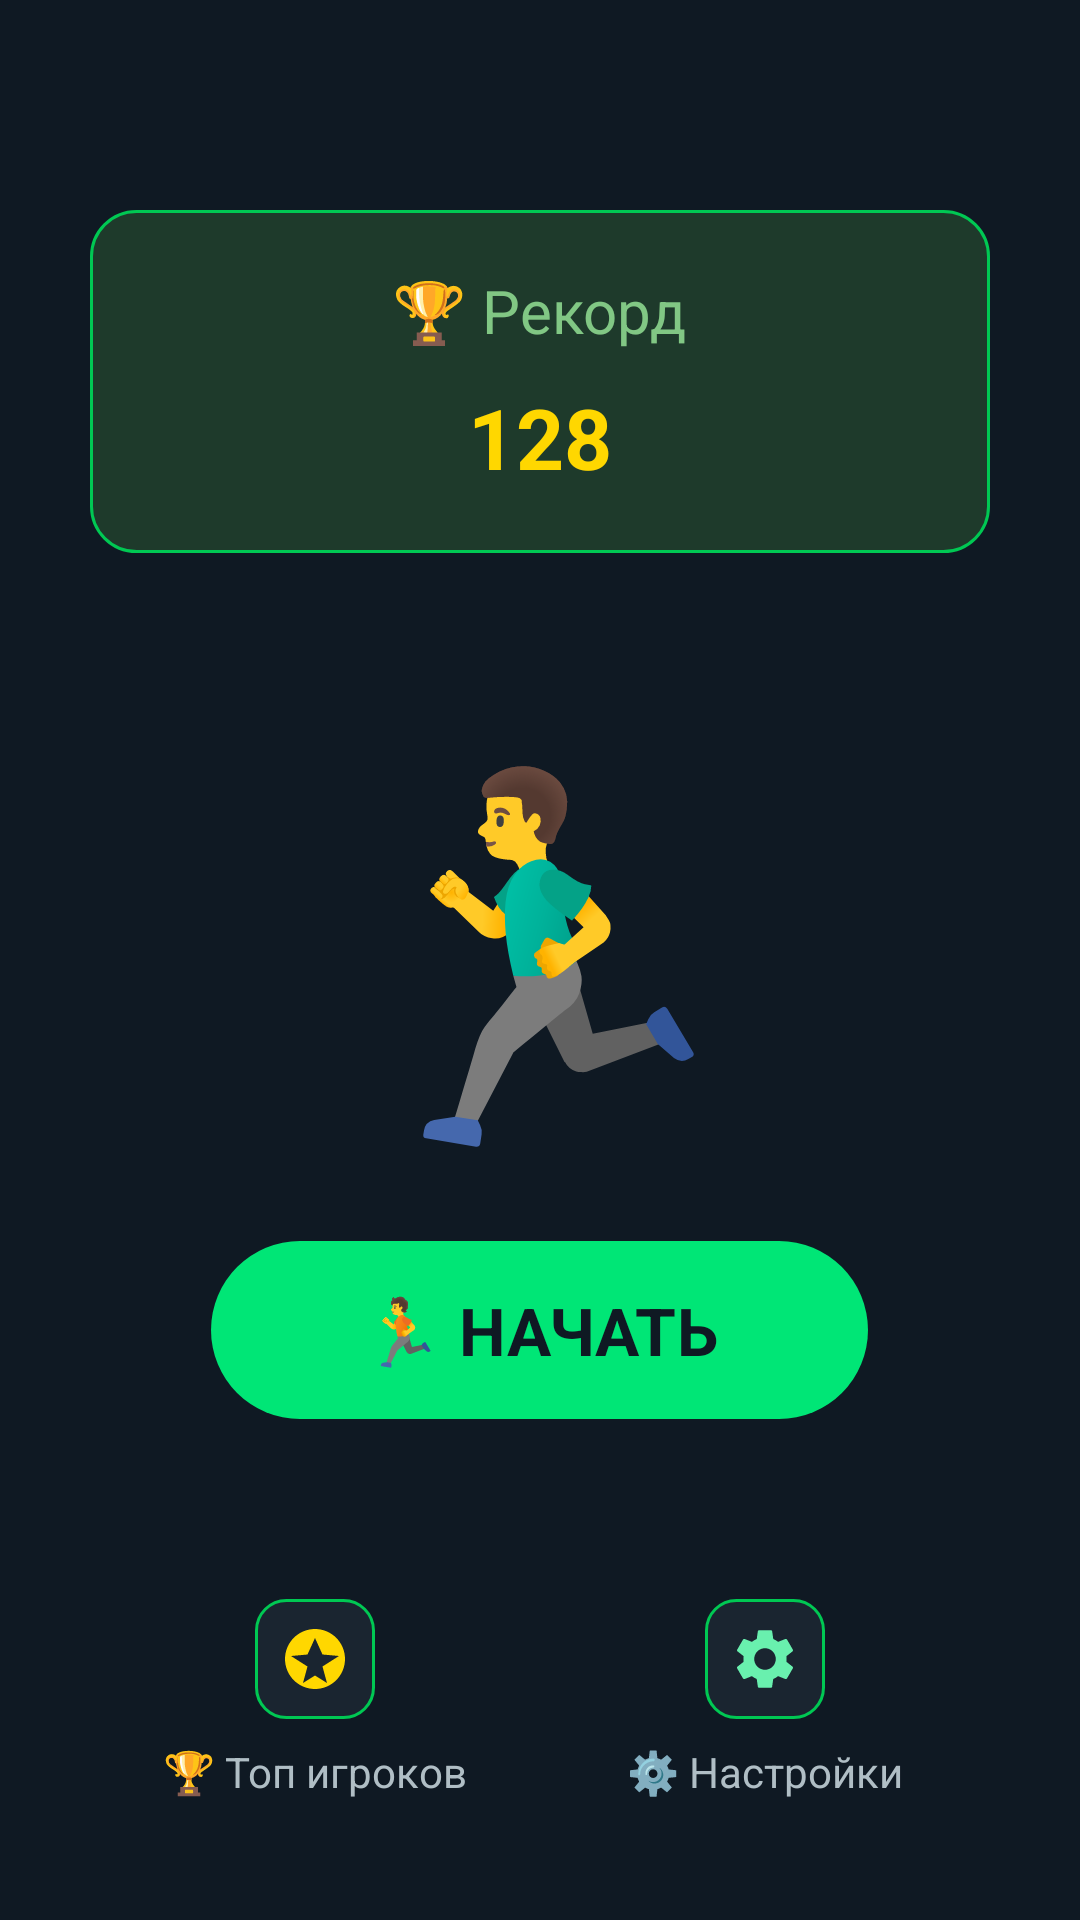

Icons on this 1080 x 1920 Android screen, each with the point to tap as [x,y]:
leaderboard: [315,1659]
settings: [765,1659]
